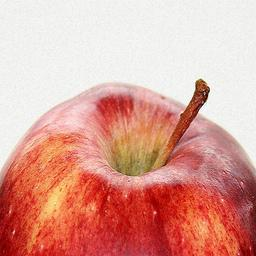apple: (0, 79, 256, 254)
